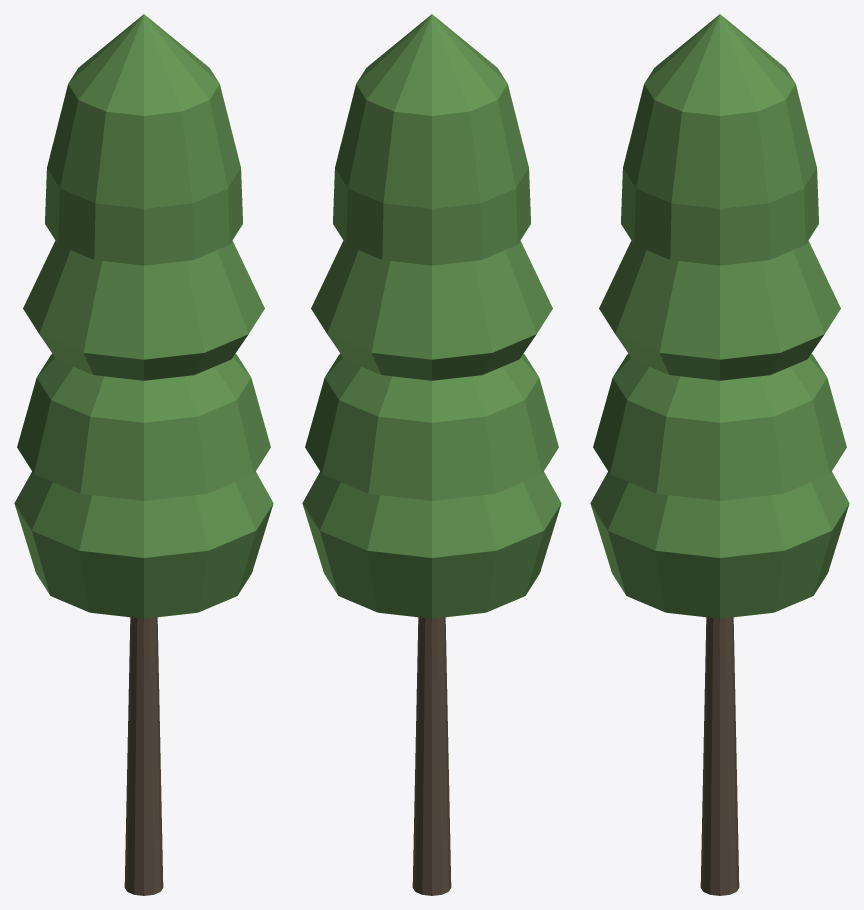
Rendered from tree2.dae.
The picture shows the model from 3 angles, left to right: view 1: azimuth 30°, elevation 25°; view 2: azimuth 150°, elevation 25°; view 3: azimuth 270°, elevation 25°; orthographic projection.
Visible parts, largest first — view 1: mesh; view 2: mesh; view 3: mesh.
Part boxes in pixels (left/top/right/bottom): mesh: left=14, top=14, right=273, bottom=895; mesh: left=302, top=14, right=561, bottom=895; mesh: left=590, top=14, right=849, bottom=895.
Size of the model in its own units: 6.72 by 6.72 by 25.
